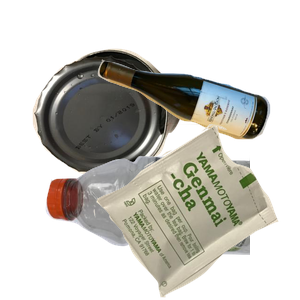glass: (95, 57, 300, 189)
metal: (30, 46, 205, 215)
plastic: (43, 152, 283, 300)
trash: (91, 124, 300, 300)
